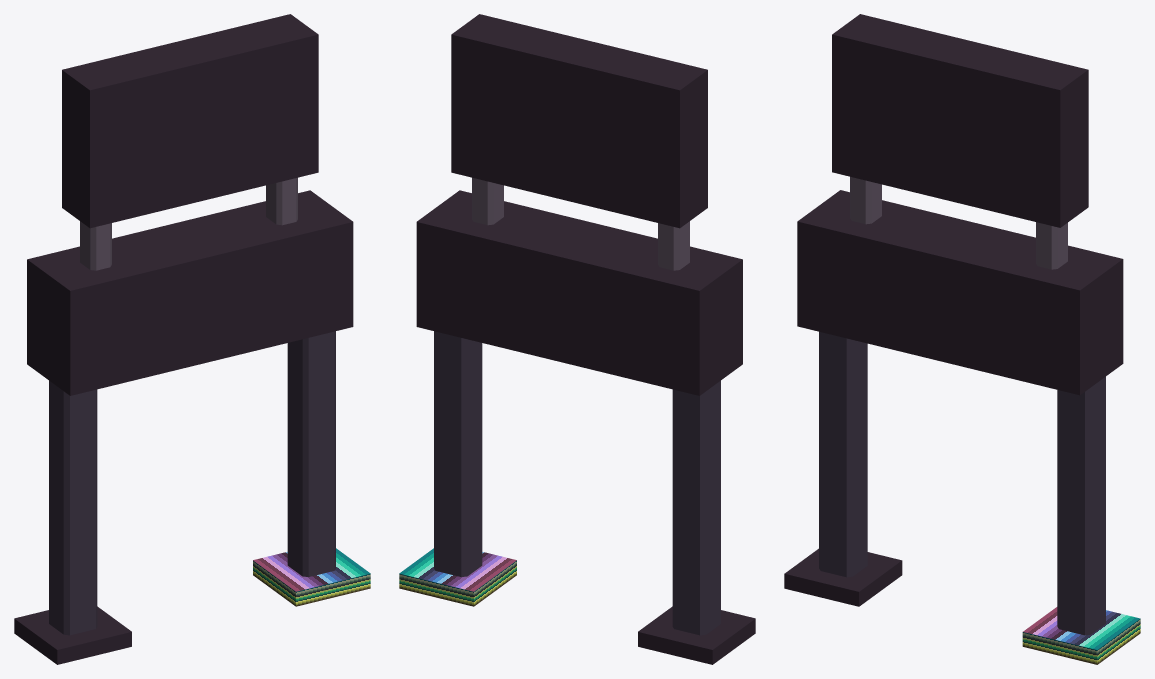
Rendered from Bill-Board.fbx.
3 views of the same model, side by side, from view 1: azimuth 30°, elevation 25°; view 2: azimuth 150°, elevation 25°; view 3: azimuth 330°, elevation 25° (orthographic).
Parts seen in each view (by area): view 1: Cube.004; view 2: Cube.004; view 3: Cube.004.
Part boxes in pixels (<box>): Cube.004: <box>14,14,370,664</box>; Cube.004: <box>399,14,755,664</box>; Cube.004: <box>784,14,1140,664</box>.
Size of the model in its own units: 51.91 by 88.49 by 12.38.
